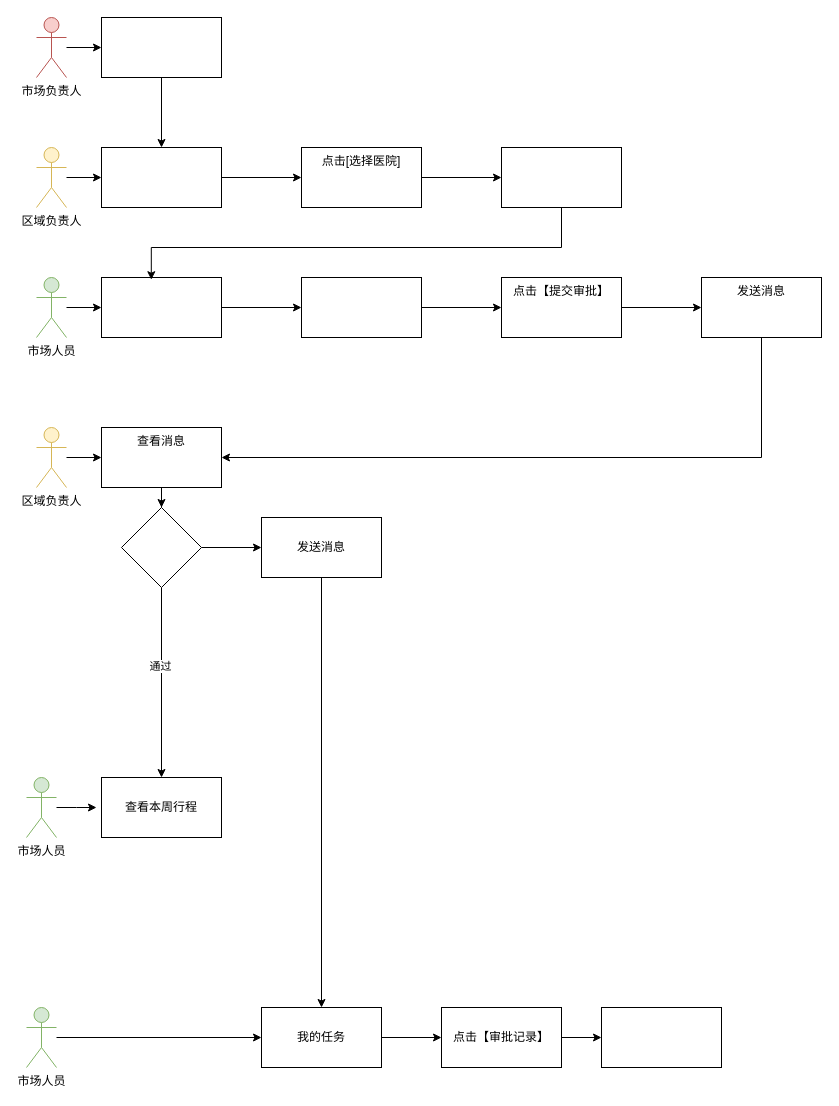
Some shapes in this 839 by 1106 pixel diagram are drawn without their labels. Each missing label, with the centre of its shape:
"审批" belongs at [161,547].
"查看审批状态" belongs at [661,1037].
"点击[下发任务]" belongs at [561,177].
"点击[区域任务分配]" belongs at [161,177].
"点击[部门任务分配]，分配触达目标" belongs at [161,47].
"点击【排期】" belongs at [361,307].
"点击【行程管理】" belongs at [161,307].
